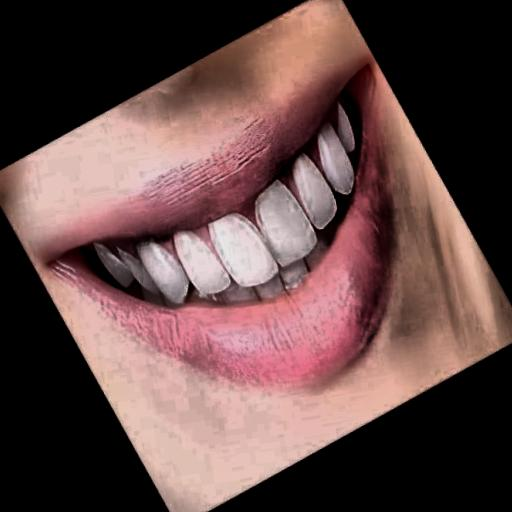Healthy: (54, 61, 430, 354)
